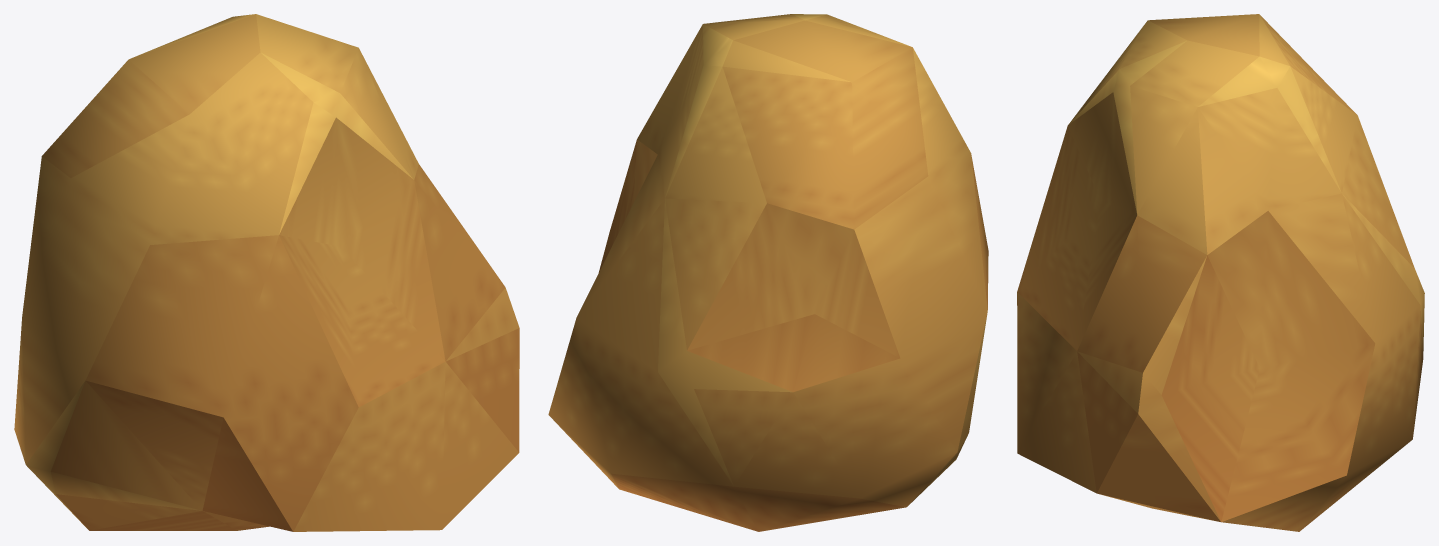
File: Gold_Nugget_Large.gltf
3 renders of one model, left to right at view 1: azimuth 30°, elevation 25°; view 2: azimuth 150°, elevation 25°; view 3: azimuth 270°, elevation 25°, orthographic. The views are drawn at different scales.
Visible parts, largest first — view 1: Gold_Nugget_Large; view 2: Gold_Nugget_Large; view 3: Gold_Nugget_Large.
Boxes of the visible parts, box(x1,y1,x2,y2) form: Gold_Nugget_Large: box(14, 14, 519, 531); Gold_Nugget_Large: box(548, 14, 988, 531); Gold_Nugget_Large: box(1017, 14, 1424, 531).
Size of the model in its own units: 0.4271 by 0.4656 by 0.3947.
1 material, 1 textured.
